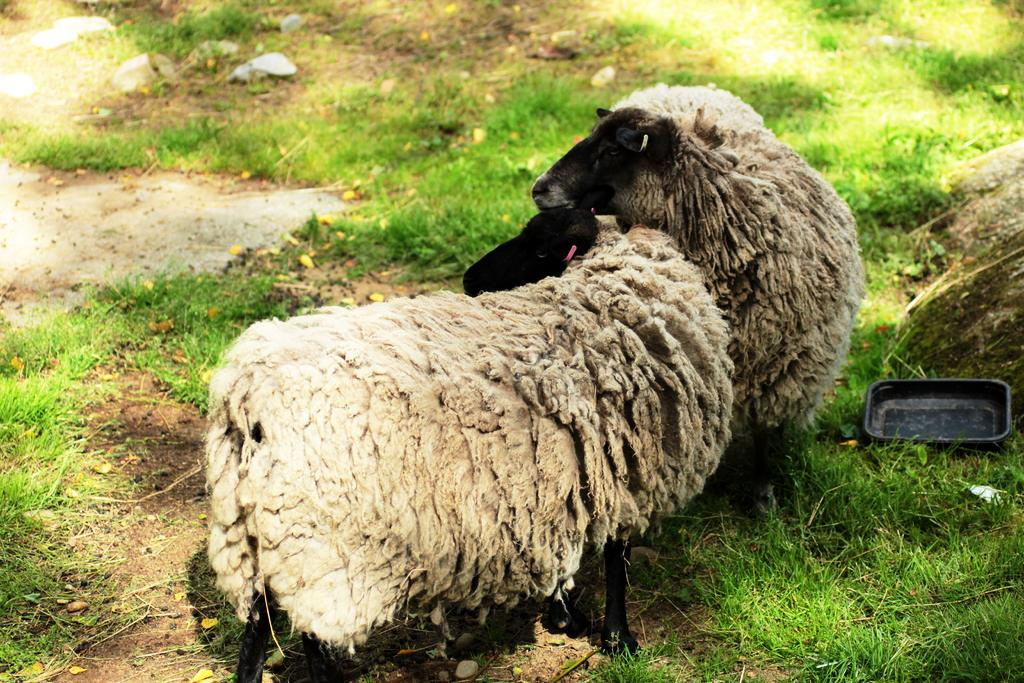Sheep: (203, 209, 735, 682), (528, 81, 866, 519)
